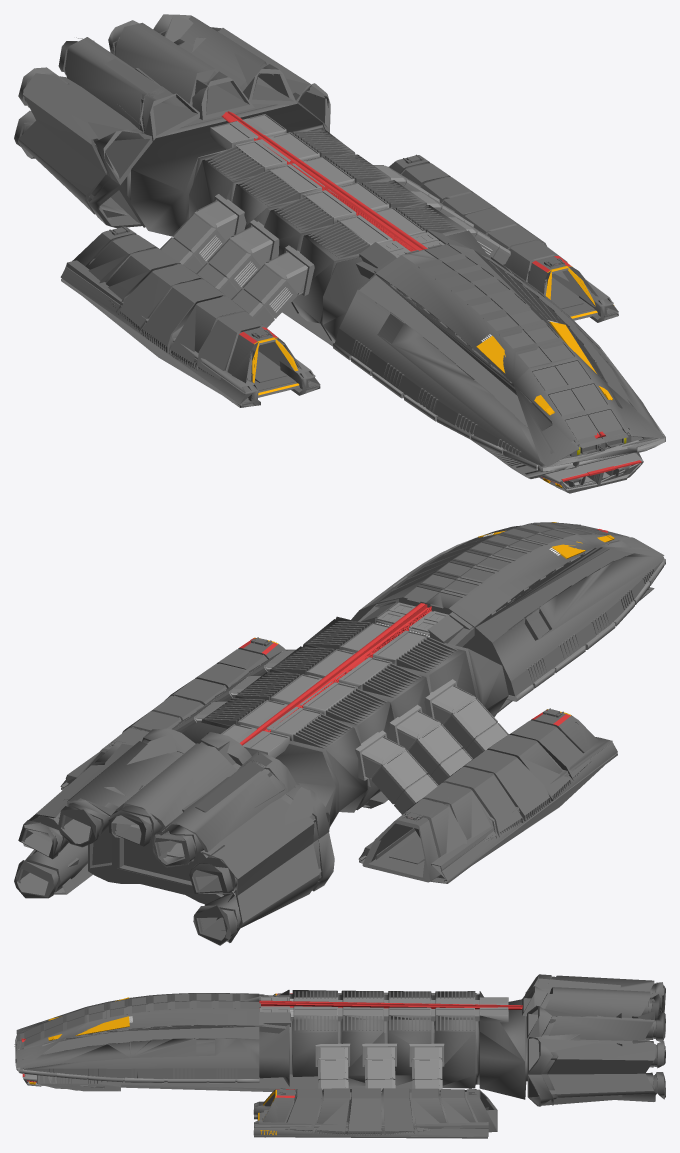
File: Battlestar_Titan_WithoutCannonAndLight_Planar50.fbx
3 renders of one model, top to bottom at view 1: azimuth 30°, elevation 25°; view 2: azimuth 150°, elevation 25°; view 3: azimuth 270°, elevation 25°, orthographic. The views are drawn at different scales.
Visible parts, largest first — view 1: Titan BSG.002; view 2: Titan BSG.002; view 3: Titan BSG.002.
Part boxes in pixels (x1,y1,x2,y2): Titan BSG.002: (14, 14, 665, 493); Titan BSG.002: (14, 522, 665, 945); Titan BSG.002: (14, 974, 665, 1138).
Bounding box in the file's own units: 1410 × 463 × 3011.
